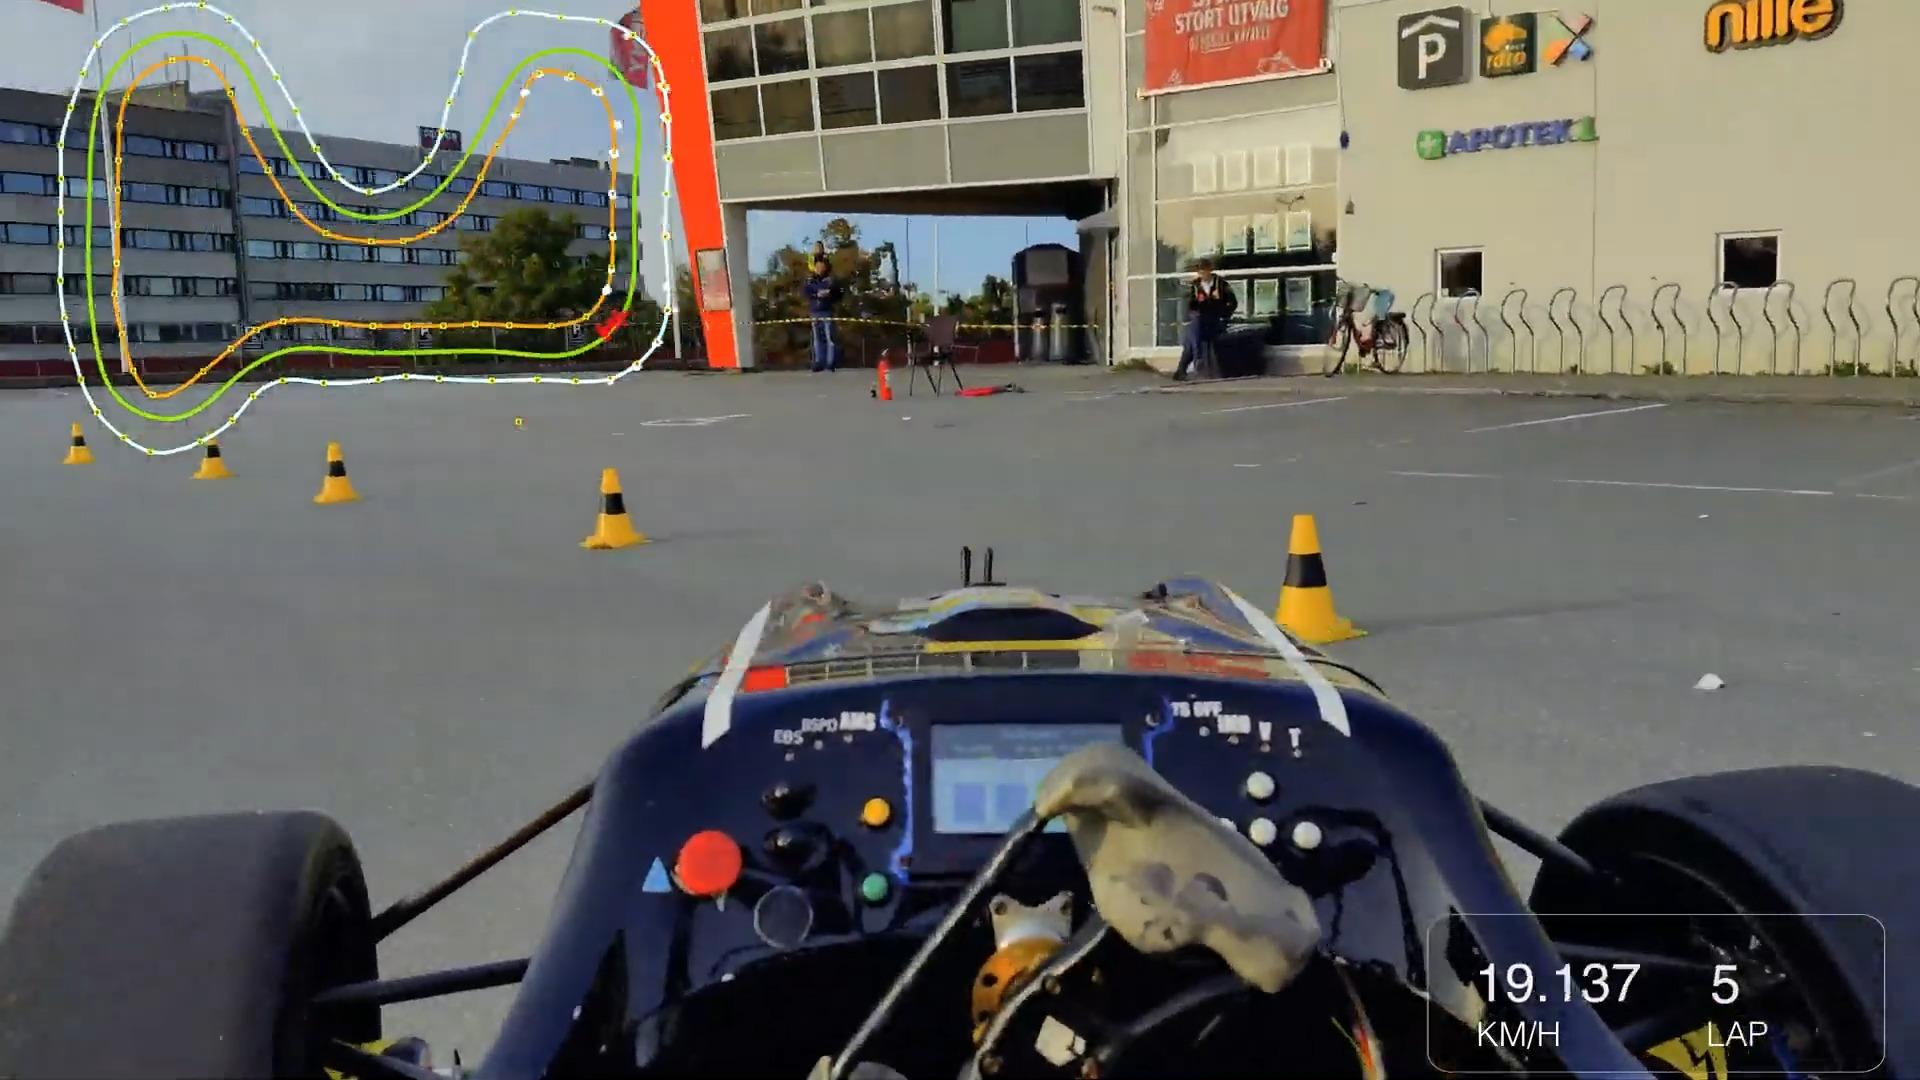yellow_cone: (1278, 508, 1370, 642), (564, 463, 645, 556), (311, 439, 360, 509), (194, 429, 235, 487), (59, 419, 98, 469)
